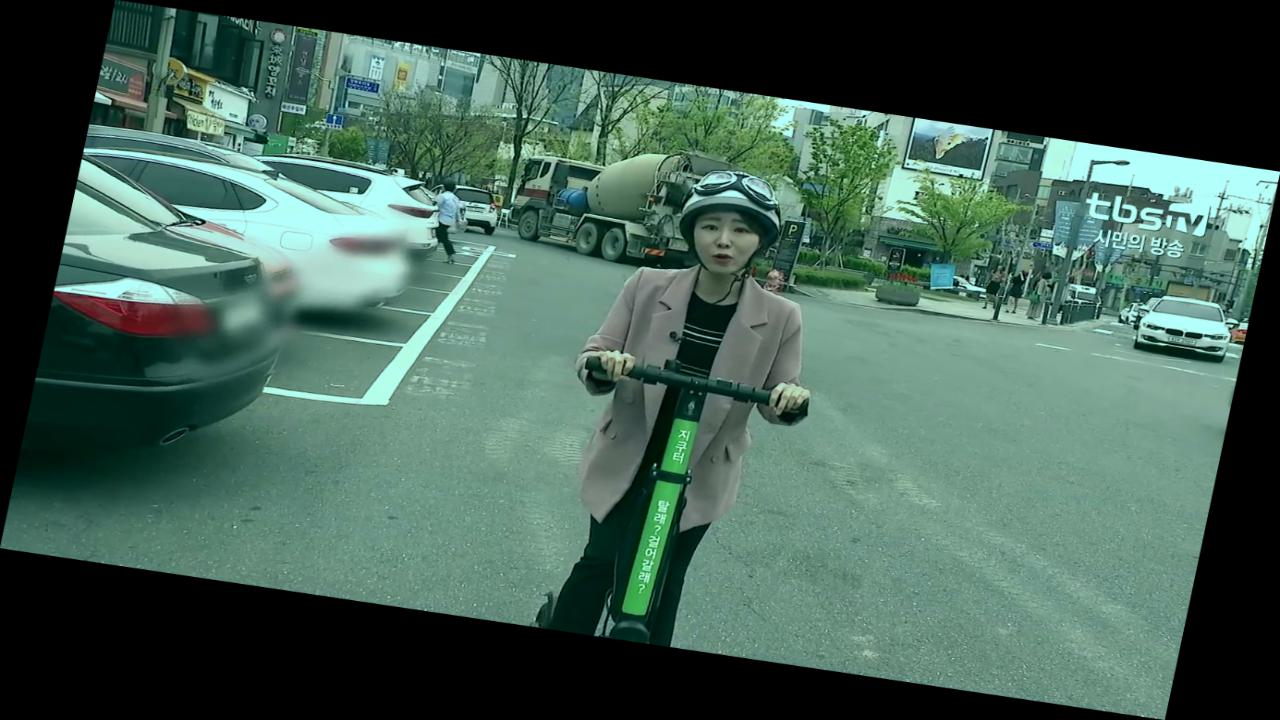helmet: (520, 153, 860, 661)
